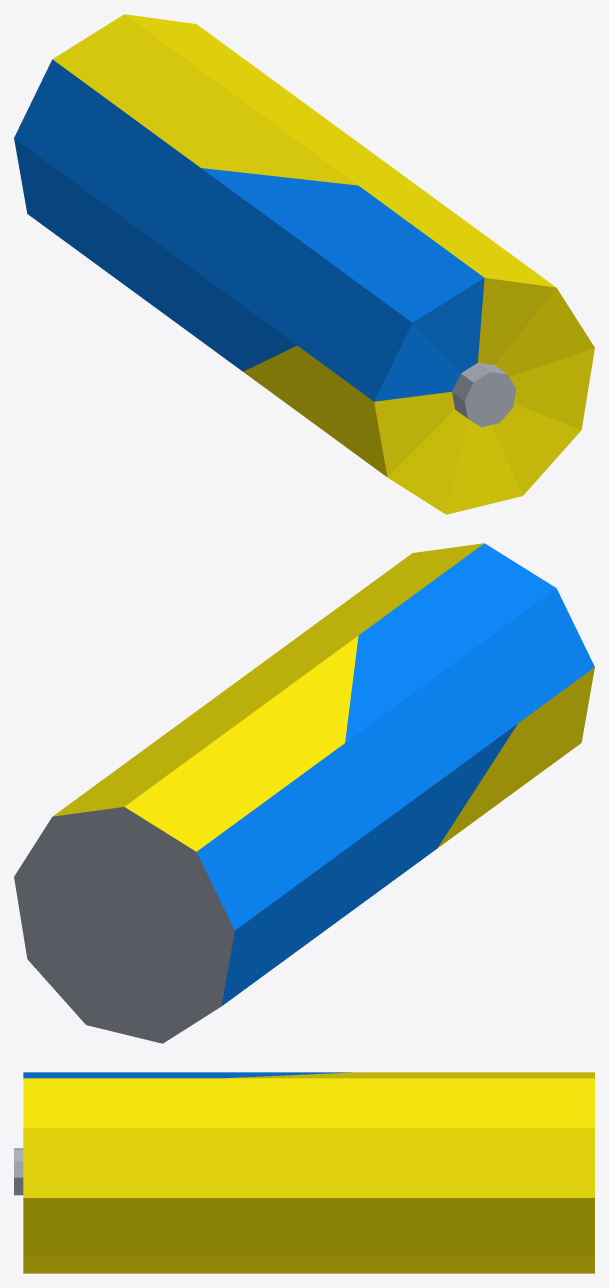
Rendered from FurnitureBattery.fbx.
3 renders of one model, top to bottom at view 1: azimuth 30°, elevation 25°; view 2: azimuth 150°, elevation 25°; view 3: azimuth 270°, elevation 25°, orthographic. The views are drawn at different scales.
Parts seen in each view (by area): view 1: LoneIkea; view 2: LoneIkea; view 3: LoneIkea.
Part boxes in pixels (x1,y1,x2,y2): LoneIkea: (14, 14, 594, 514); LoneIkea: (14, 543, 594, 1043); LoneIkea: (14, 1072, 594, 1273).
Size of the model in its own units: 59.07 by 58.17 by 170.
